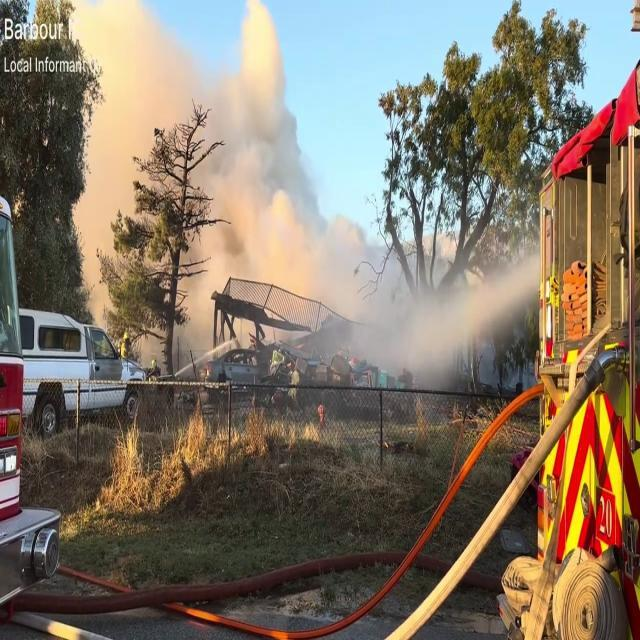Smoke: (84, 3, 392, 380)
